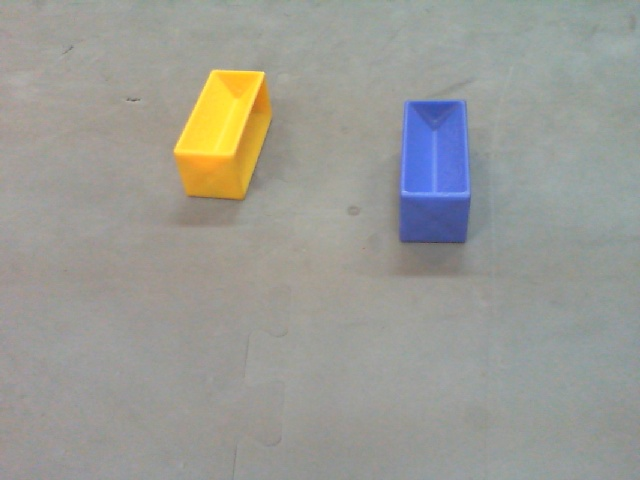BlueSample: (397, 97, 472, 245)
YellowSample: (169, 67, 274, 207)
